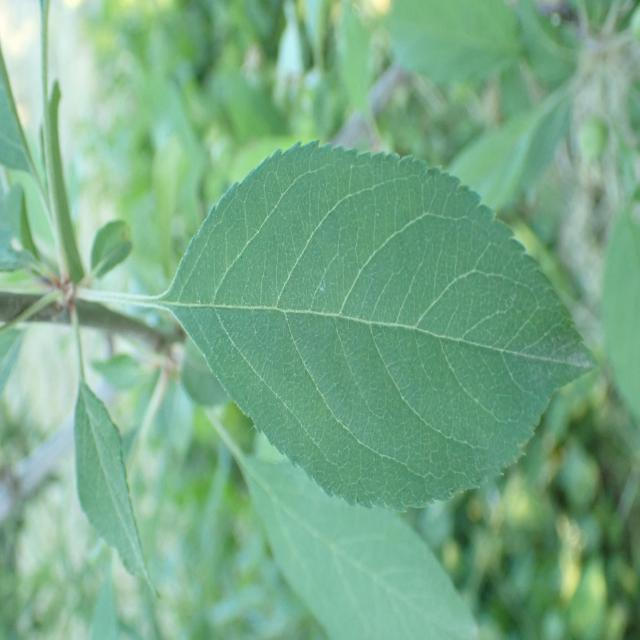healthy: (168, 138, 599, 512), (229, 427, 481, 640), (74, 381, 160, 601)
